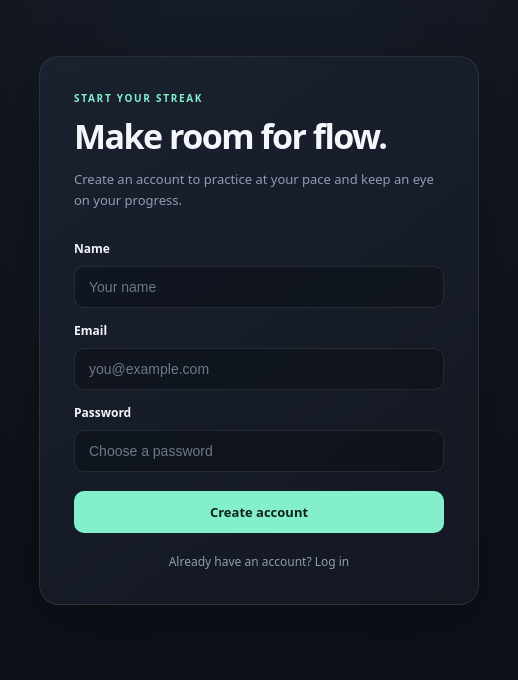
Test: registration displays the backend error message
Type "Taylor" into the field labelled "Name" at (259, 287), box [74,266,444,308]
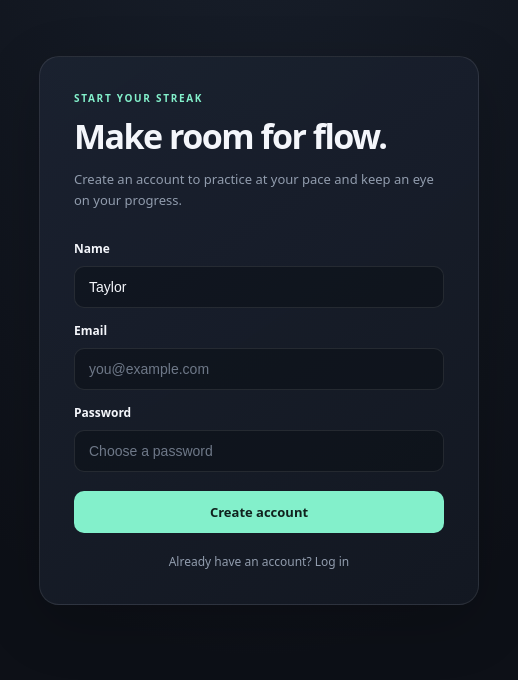
Type "taylor@example.com" into the field labelled "Email" at (259, 369), box [74,348,444,390]
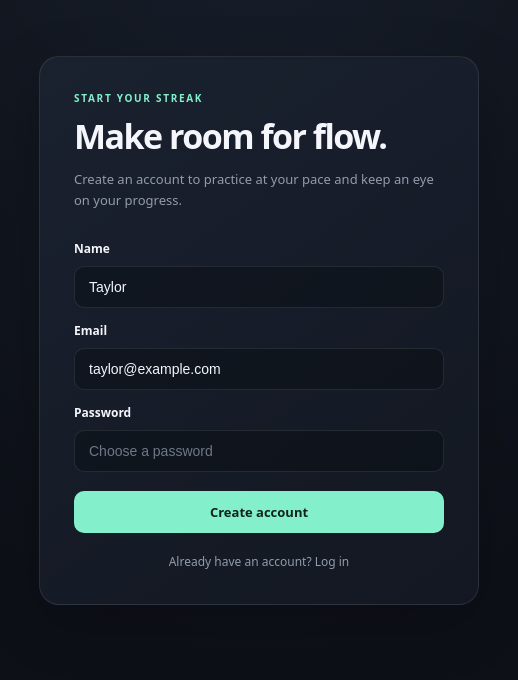
Type "typing123" into the password field labelled "Password" at (259, 451), box [74,430,444,472]
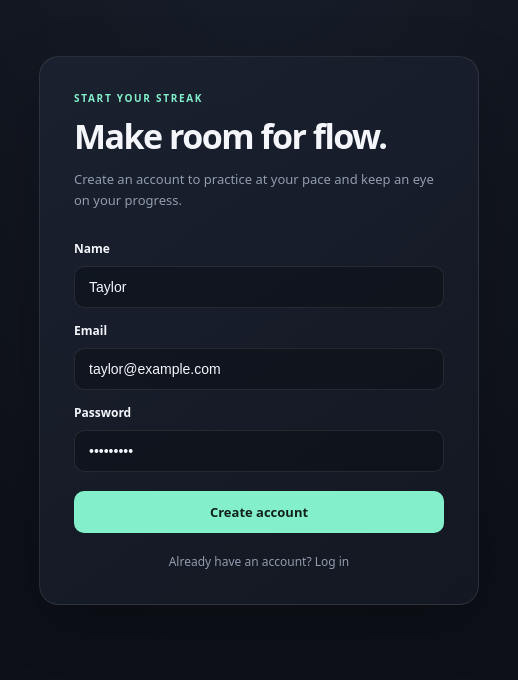
Click the button "Create account" at (259, 512), box [74,491,444,533]
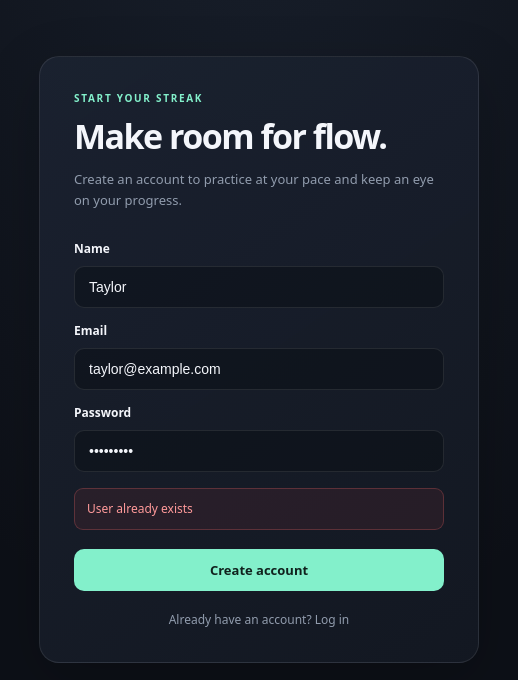
Expected: the message reads "User already exists", [87,500,193,517]
